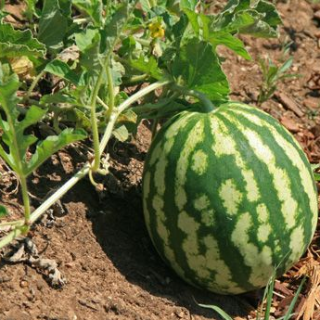dua_hau: (142, 102, 318, 299)
